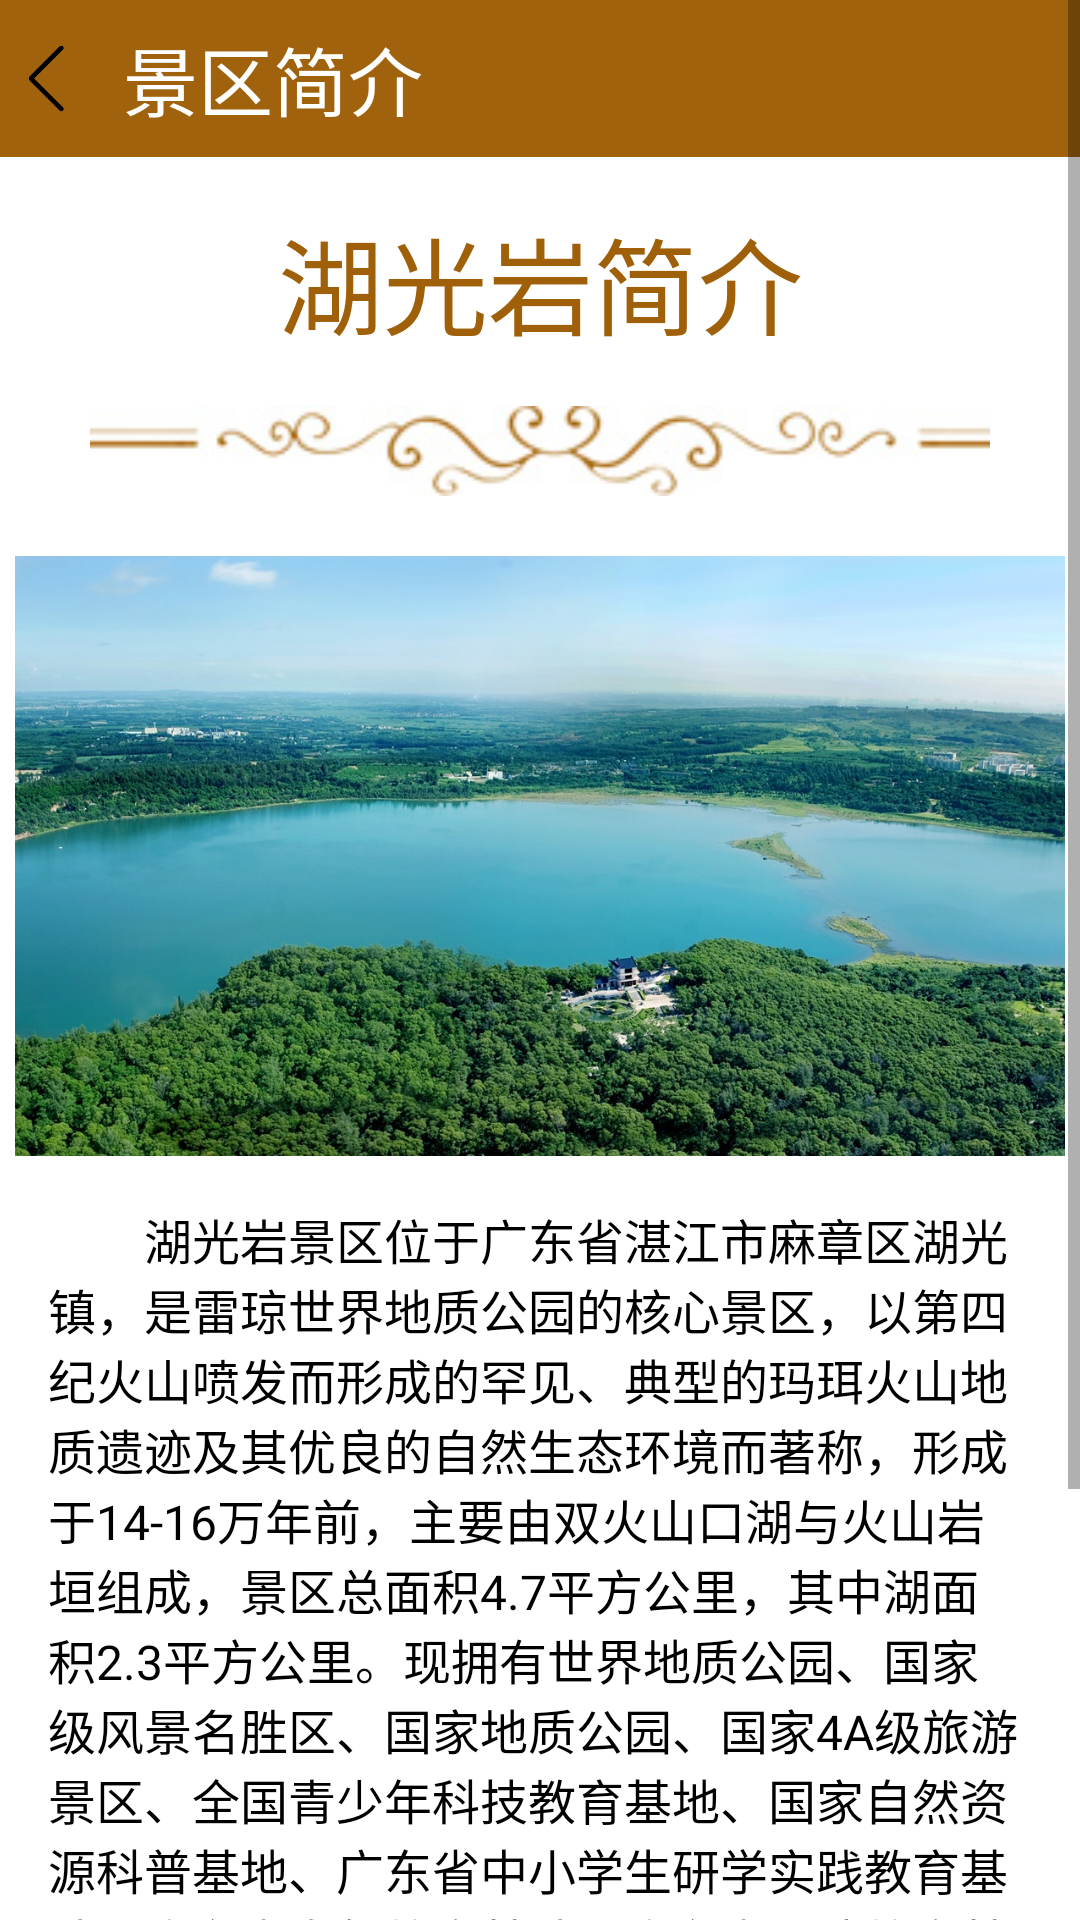

Where icons sit on this 1080 x 1920 app screen, as (x1, y1, x2, y2):
back: (29, 46, 64, 111)
